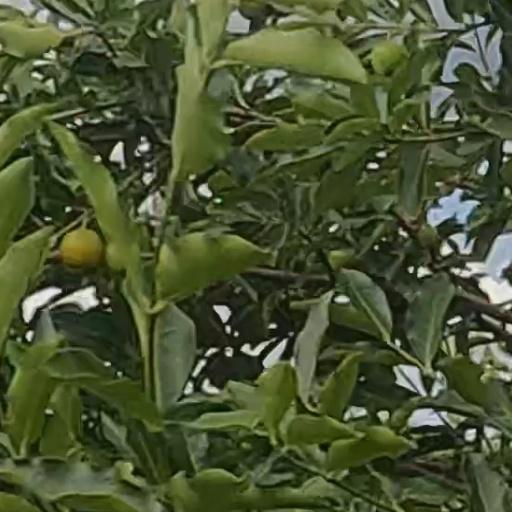acerola: (60, 229, 98, 272), (373, 40, 403, 72)
